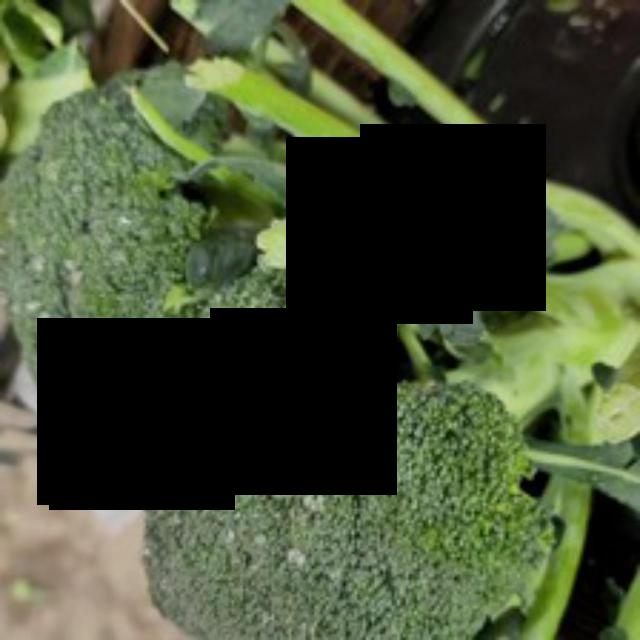broccoli: (97, 268, 567, 640)
